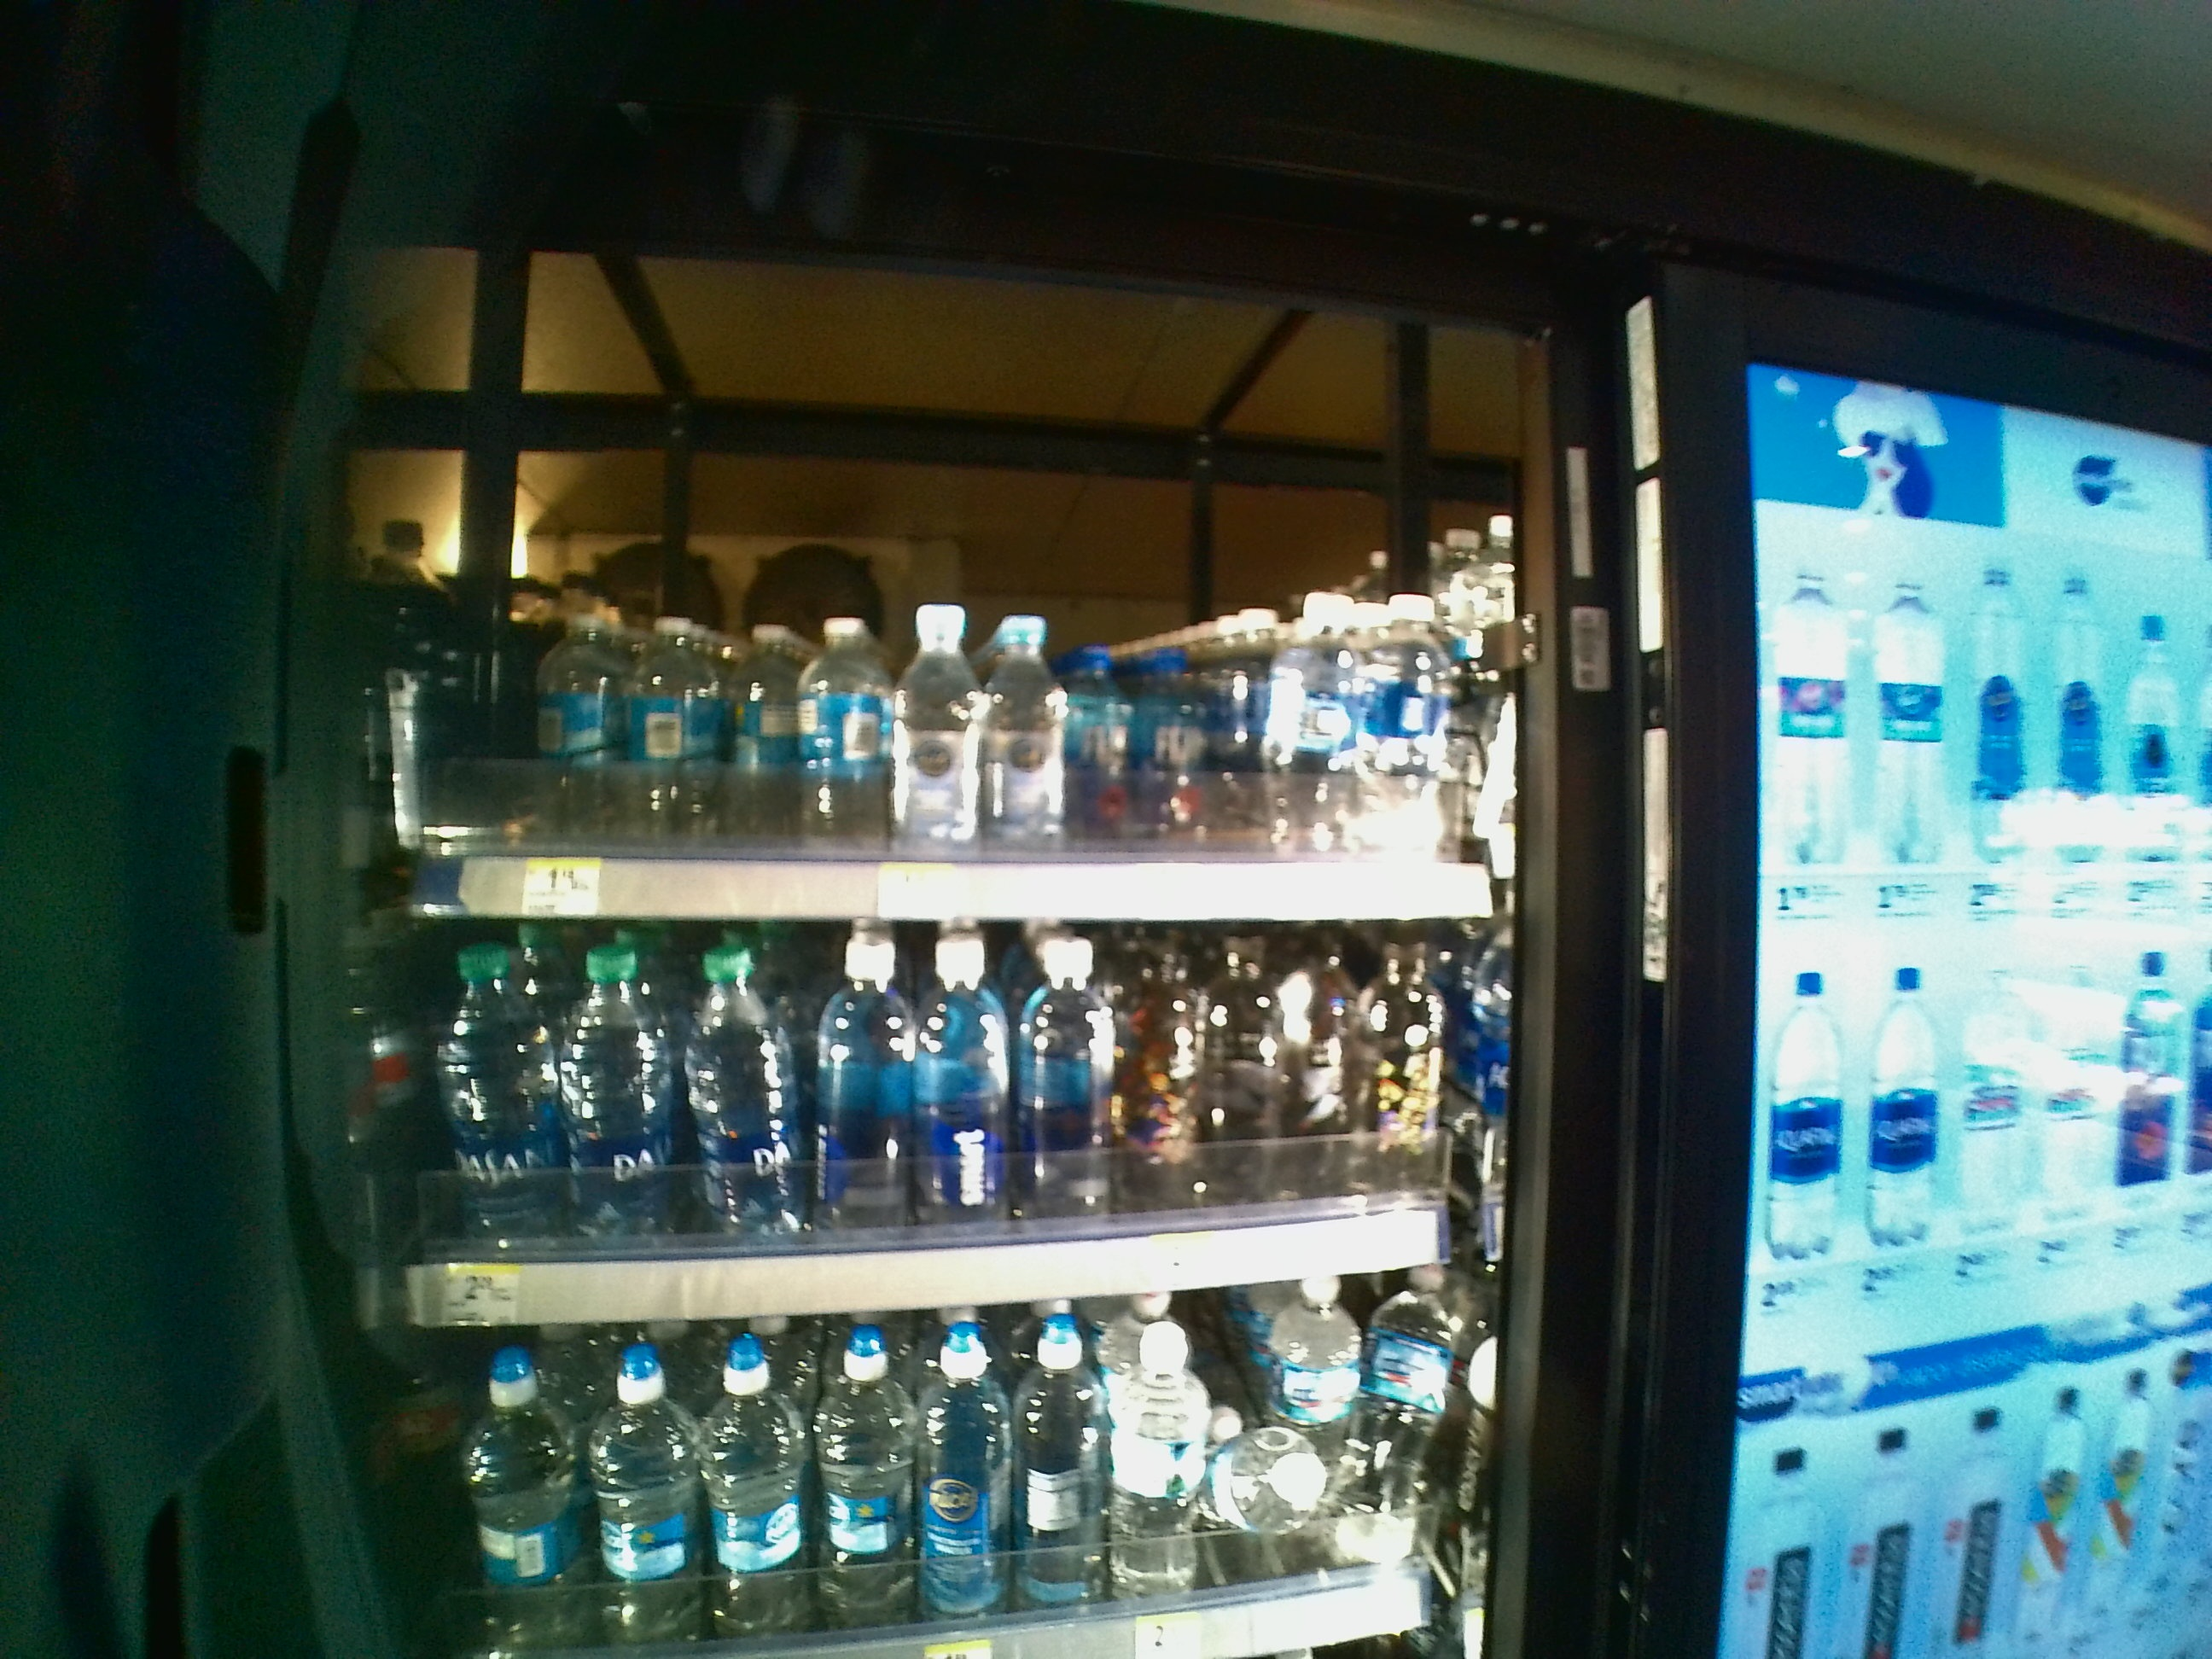shelf: (348, 232, 1561, 924), (343, 927, 1555, 1337)
